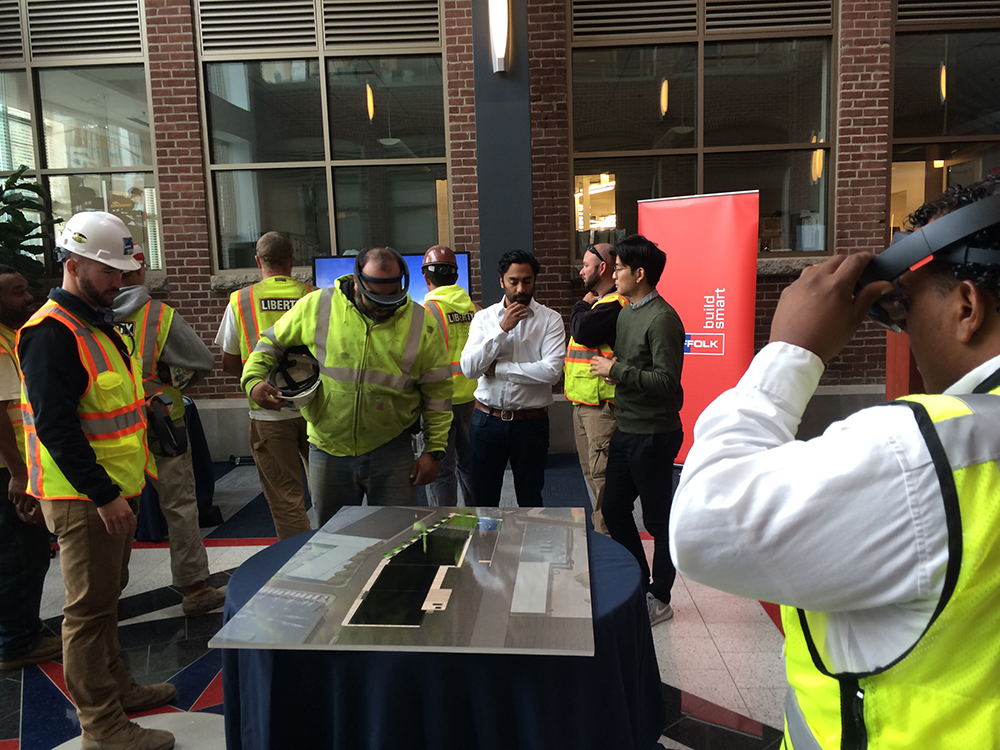Hard Hat: (52, 211, 143, 272), (415, 245, 460, 267)
High Viz: (19, 303, 142, 482), (316, 286, 414, 440), (228, 279, 303, 372), (127, 300, 174, 417), (428, 289, 483, 388), (569, 295, 615, 388), (1, 324, 27, 466)
